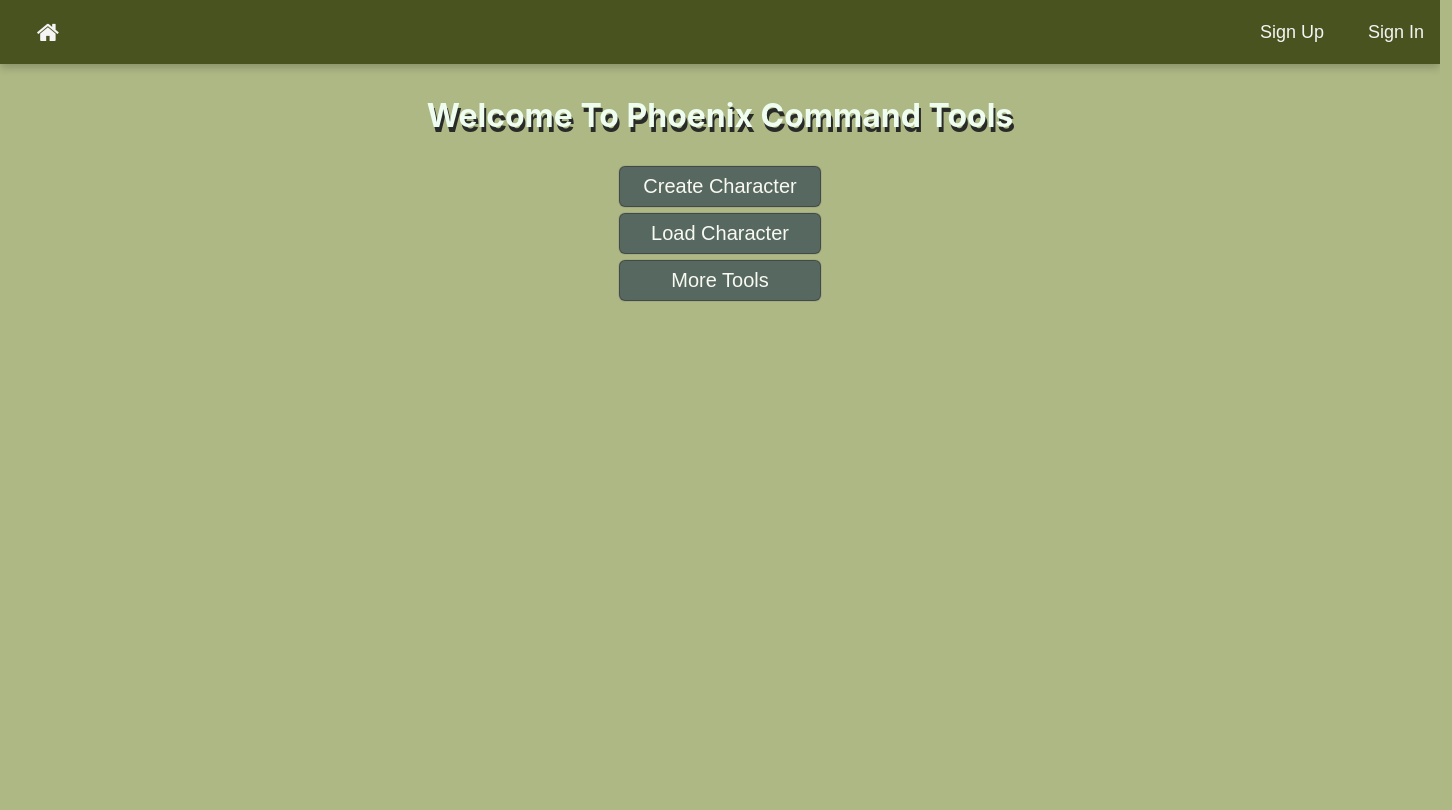
Test case: Router integration › should navigate to edit character page via href link
Click the button "Create Character" at point(720, 186), box top-left (620, 167), bottom-right (820, 206)
(page scrolled)
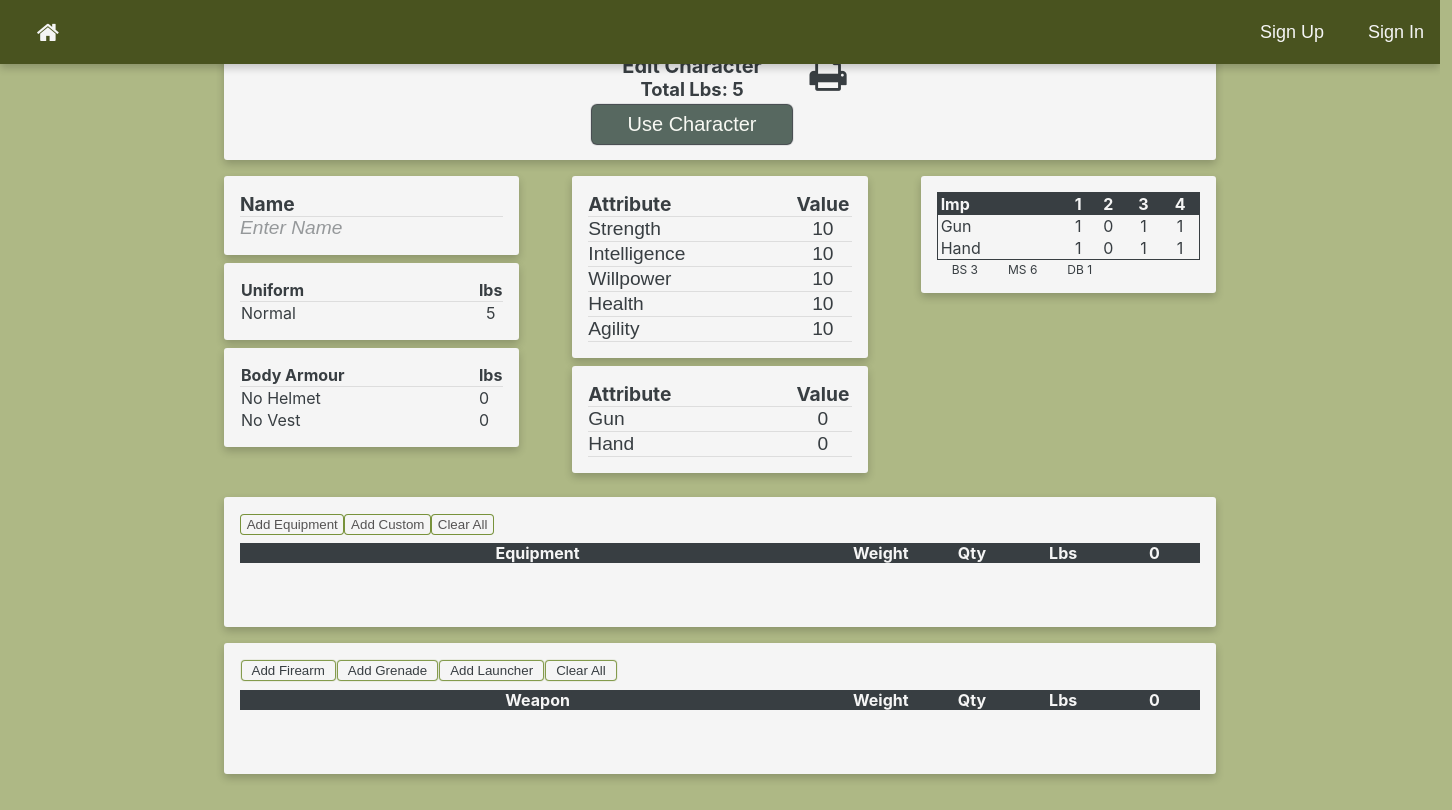
expect the element that starts with "Edit Character" is shown: met
